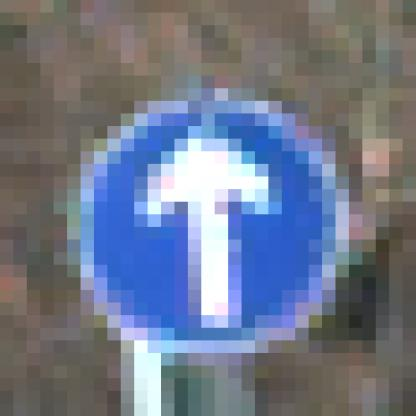AheadOnly: (68, 77, 350, 354)
